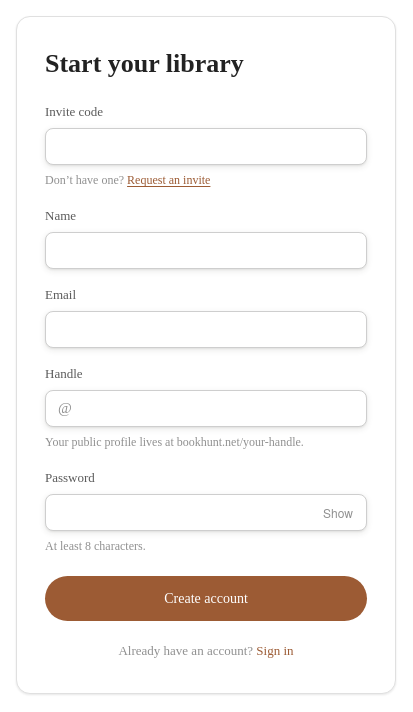
Scenario: RegisterPage › registers and shows the check-your-email panel
In the field labelled "Name": (206, 250) [45, 232, 367, 269], type "Ada Reader"
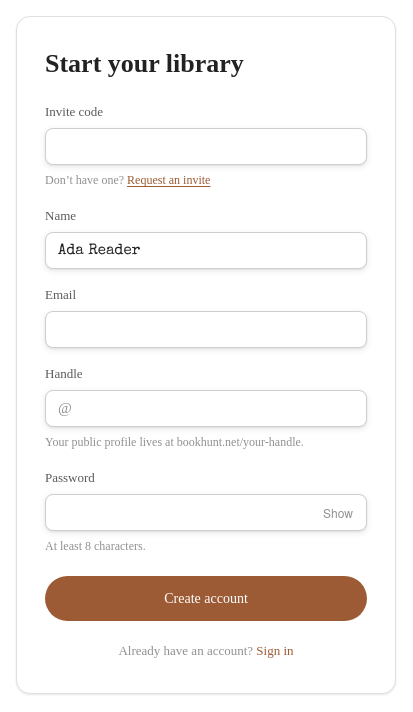
In the field labelled "Email": (206, 330) [45, 311, 367, 348], type "reader@example.com"
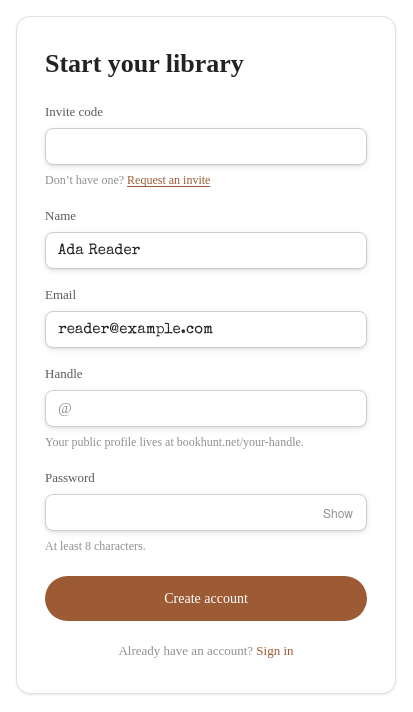
In the field labelled "Handle": (219, 409) [72, 391, 366, 426], type "ada"
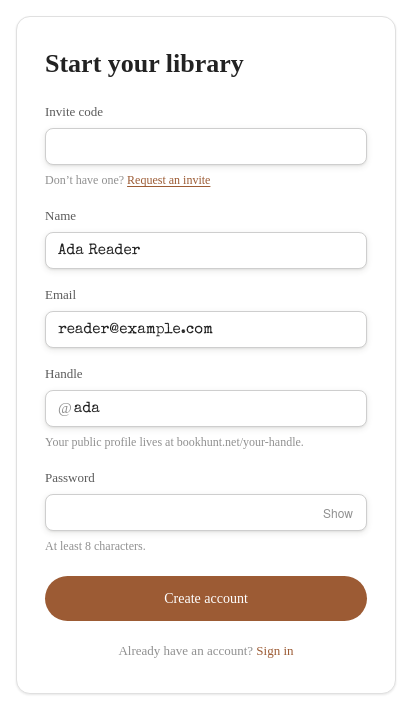
In the password field labelled "Password": (206, 512) [45, 494, 367, 531], type "b00kW0rm!"
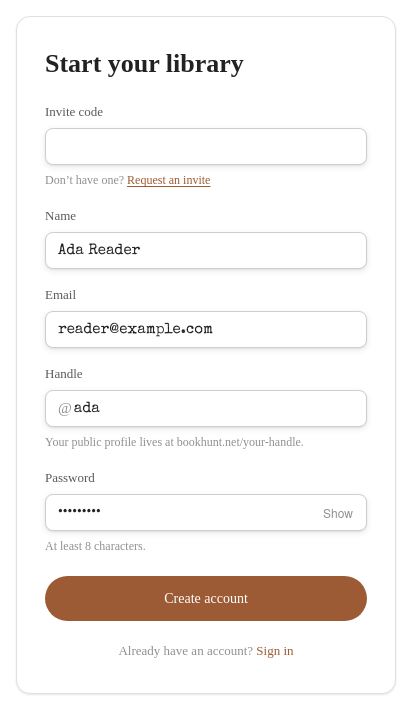
In the field labelled "Invite code": (206, 147) [45, 128, 367, 165], type "GNRU-XC5B-QGXT"
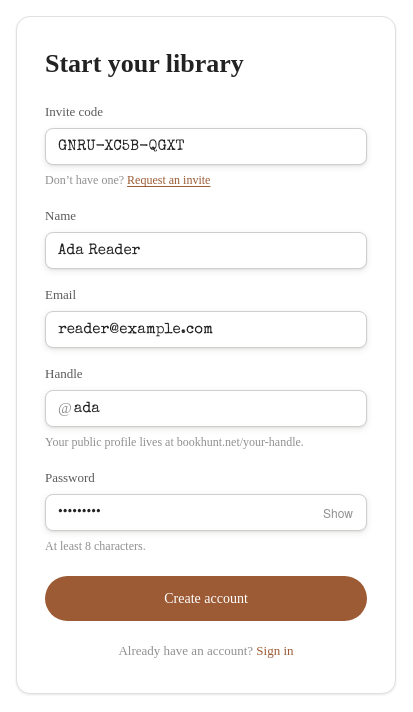
Click the button "Create account": (206, 598) [45, 576, 367, 621]
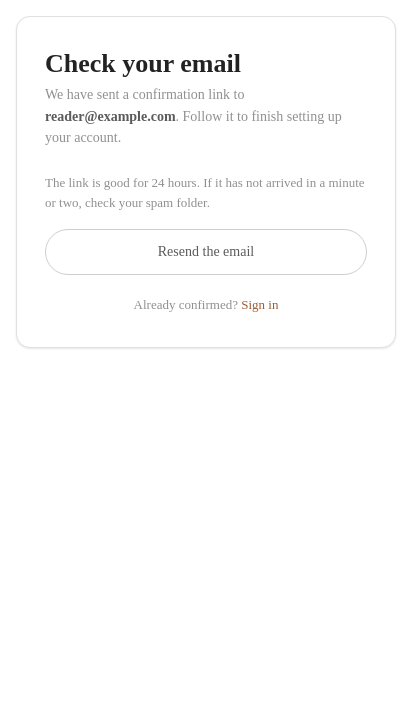
Check: the heading "Check your email" is shown, box [45, 49, 241, 78]
Check: the text "reader@example.com" is shown, box [45, 109, 176, 124]
